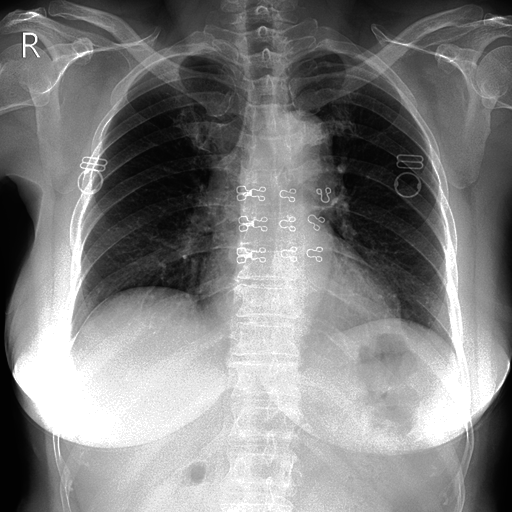Consolidation: (269, 107, 332, 184)
Nodule/Mass: (196, 267, 402, 356)
